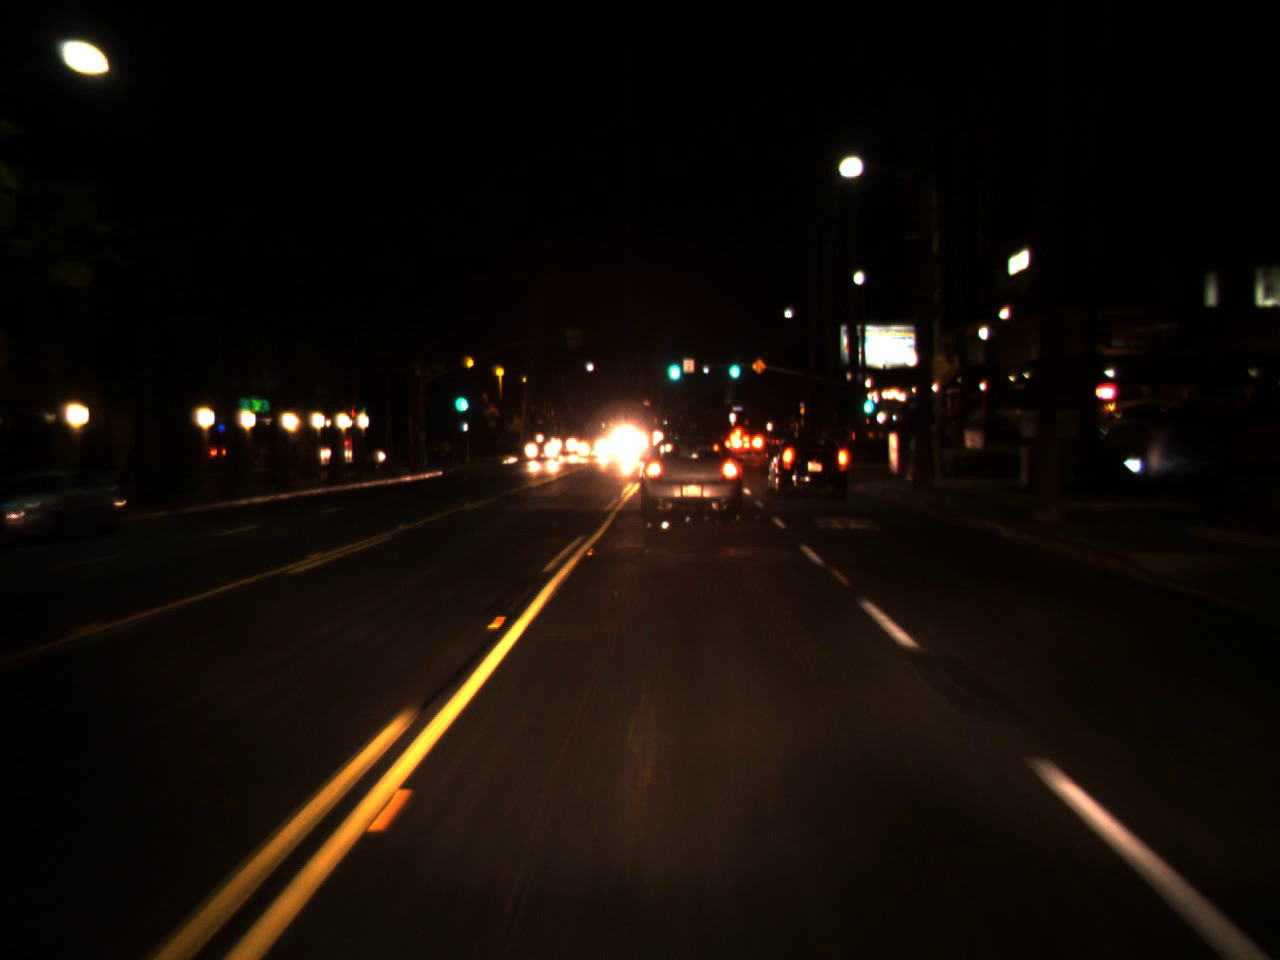go: (663, 345, 682, 387), (857, 380, 876, 419), (451, 378, 469, 417), (725, 349, 743, 382)
